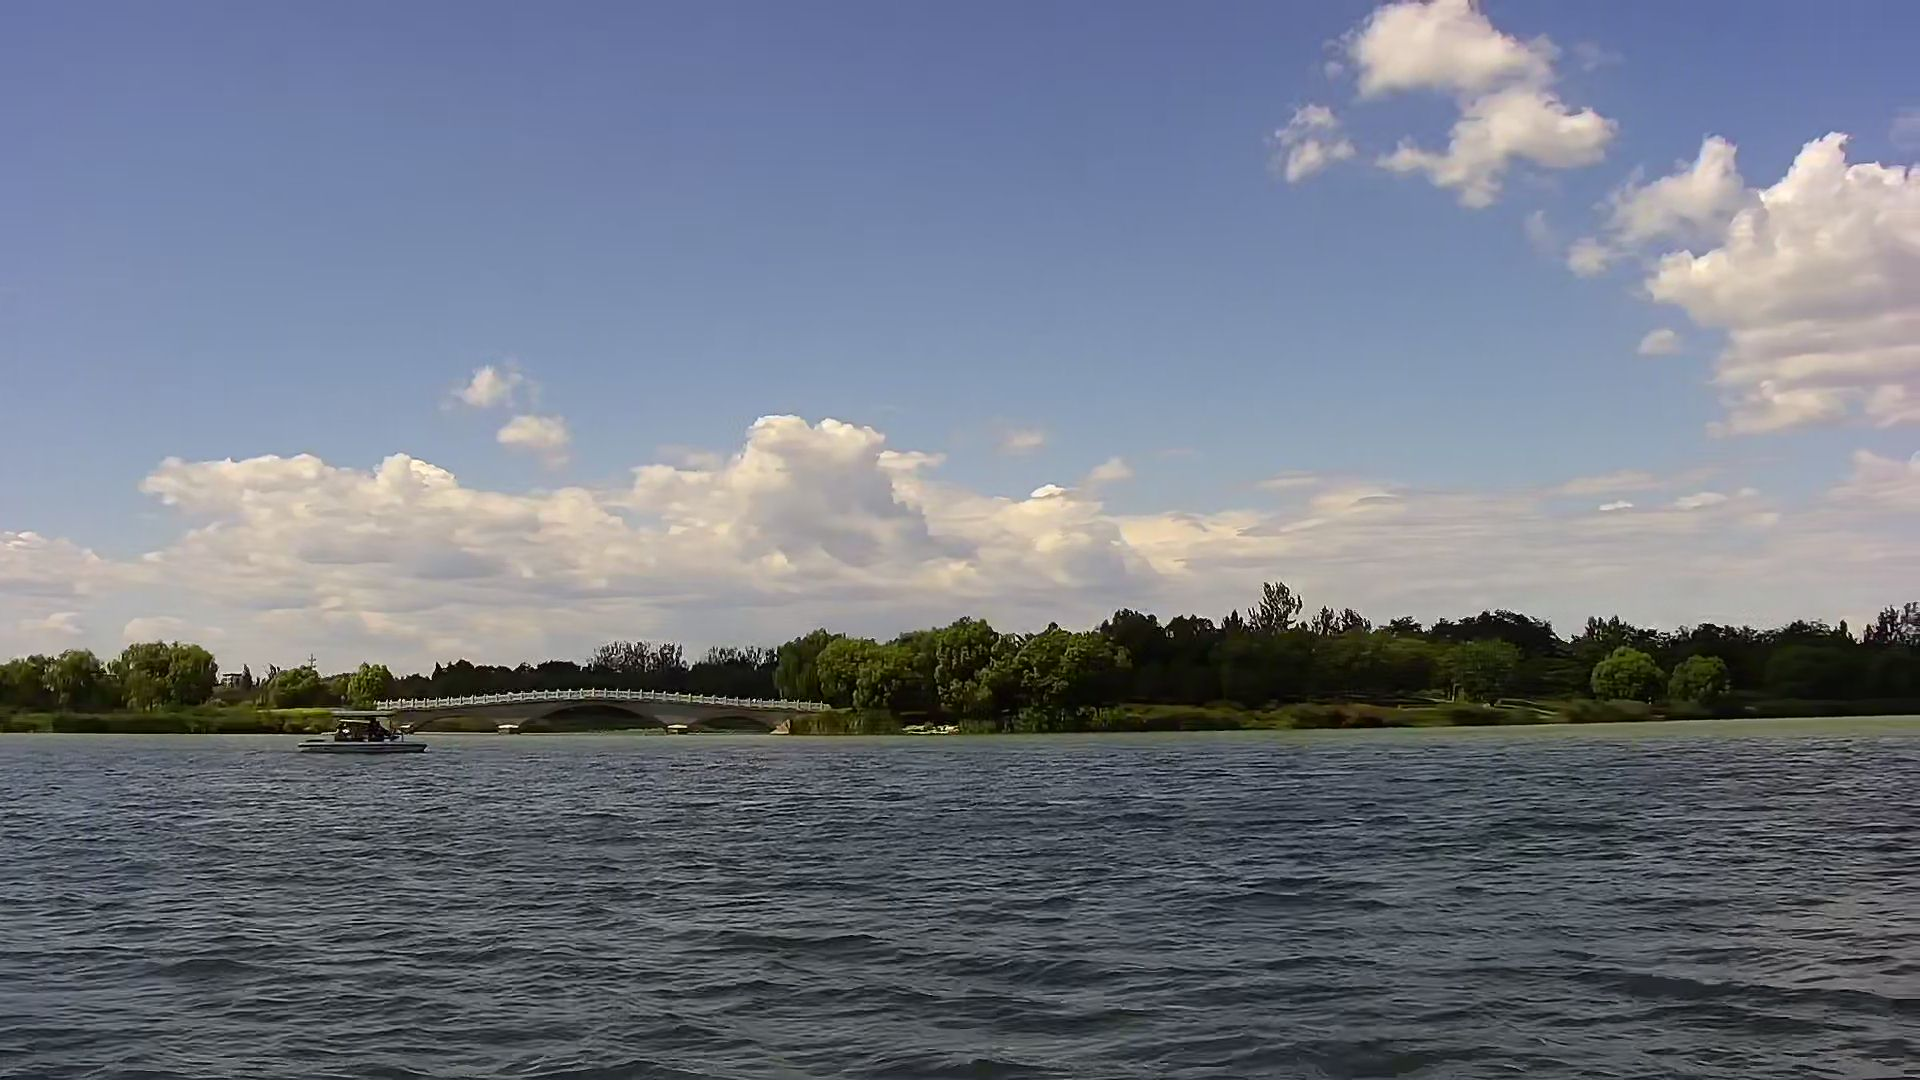boat: (284, 698, 419, 765)
bridge: (386, 683, 887, 737)
